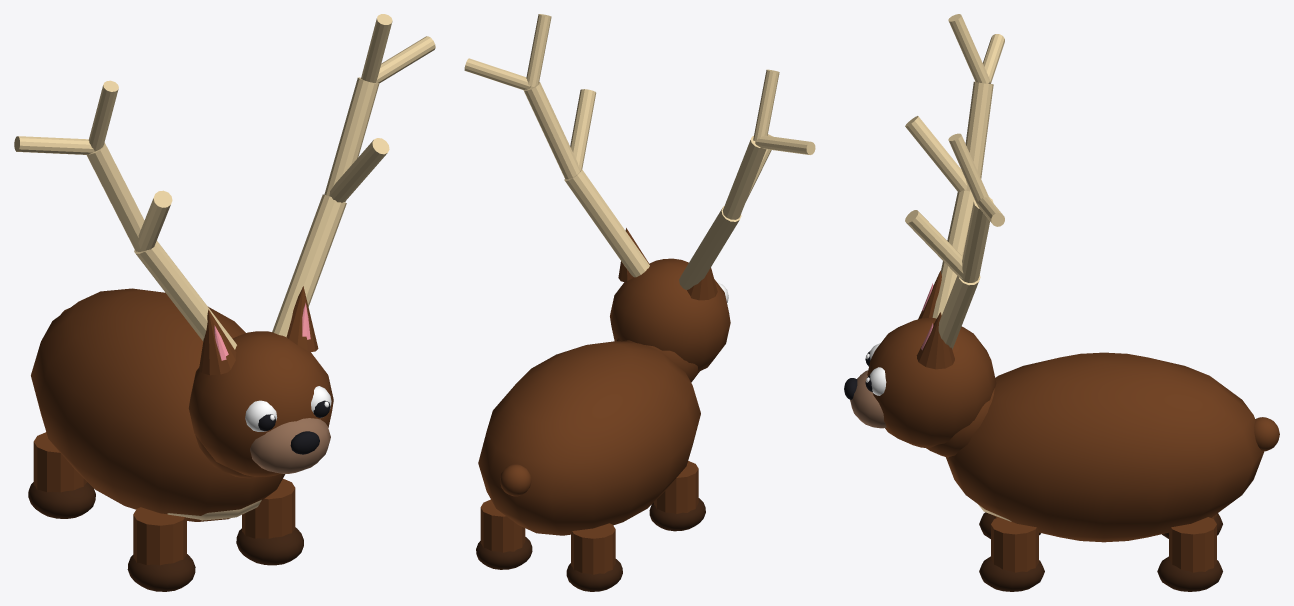
3 renders of one model, left to right at view 1: azimuth 30°, elevation 25°; view 2: azimuth 150°, elevation 25°; view 3: azimuth 270°, elevation 25°, orthographic. The views are drawn at different scales.
Parts seen in each view (by area): view 1: Choco Moose; view 2: Choco Moose; view 3: Choco Moose.
Part boxes in pixels (box(x1,y1,x2,y2)): Choco Moose: box(14, 14, 435, 591); Choco Moose: box(464, 14, 815, 591); Choco Moose: box(844, 14, 1279, 591).
Size of the model in its own units: 4.49 by 5.62 by 4.54.
1 material, 1 textured.
